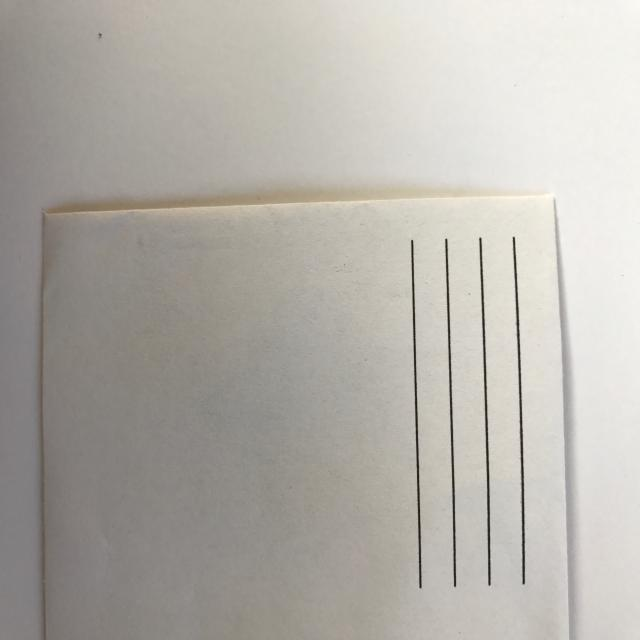paper: (39, 194, 570, 640)
